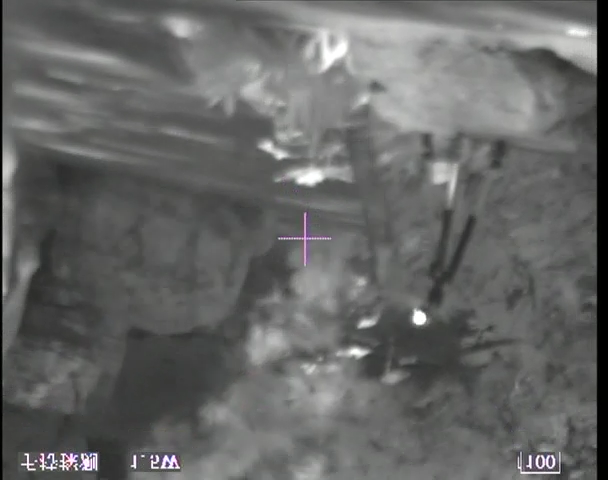my: (410, 307, 427, 327)
